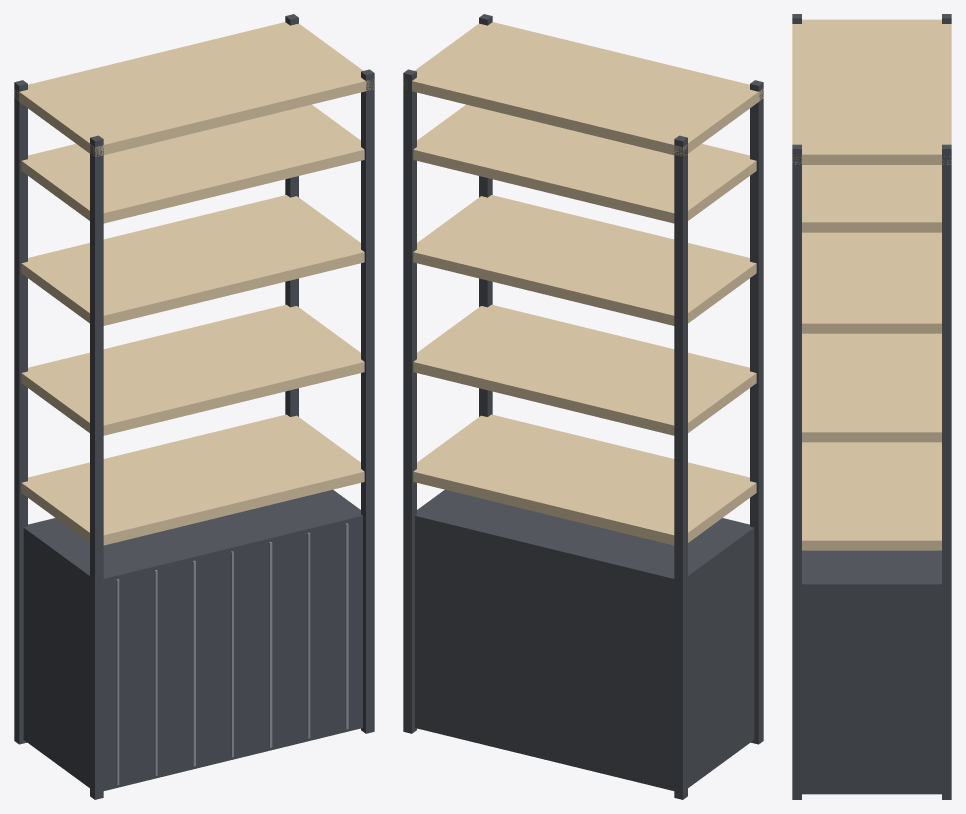
Rendered from capella-siyah.glb.
3 views of the same model, side by side, from view 1: azimuth 30°, elevation 25°; view 2: azimuth 150°, elevation 25°; view 3: azimuth 270°, elevation 25° (orthographic).
Bounding box in the file's own units: 0.8 × 1.8 × 0.4.
